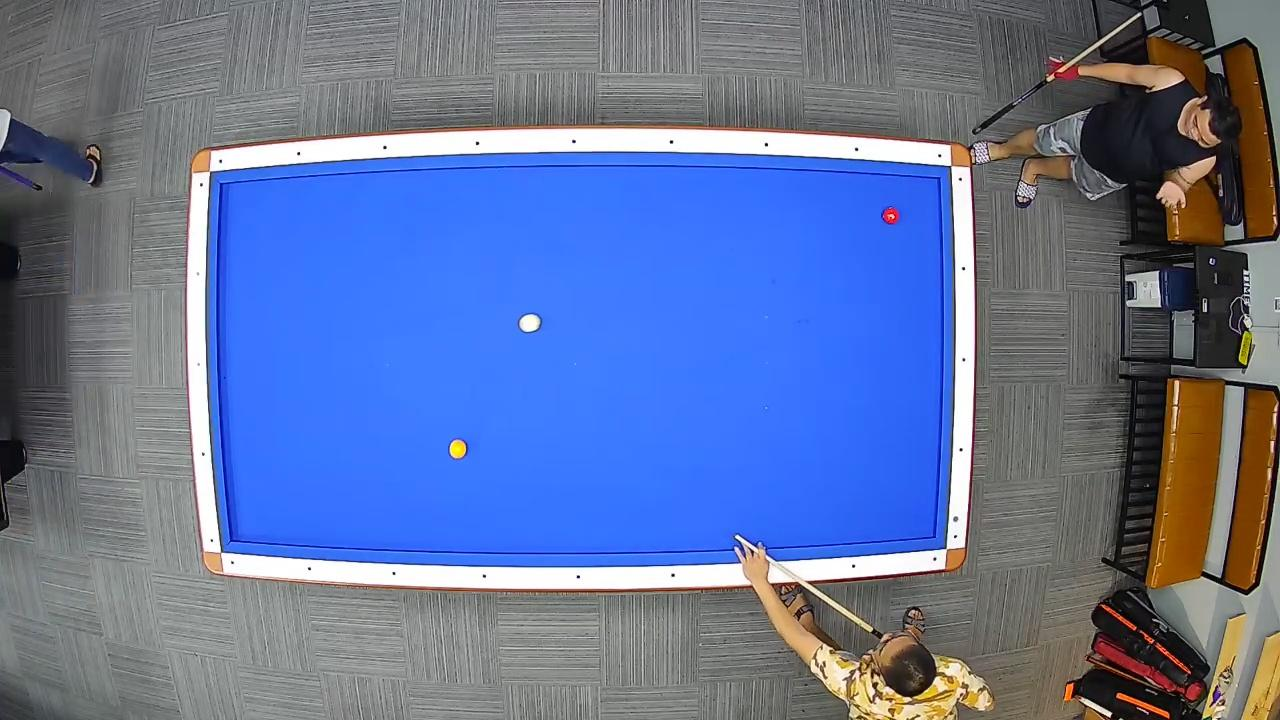Red: (880, 207, 900, 226)
White: (517, 312, 542, 334)
Yellow: (449, 437, 469, 461)
